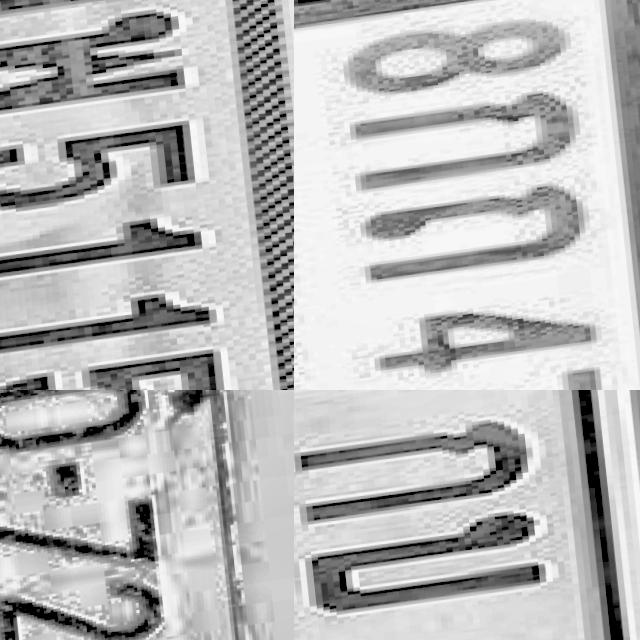license-plate: (294, 0, 640, 390), (0, 0, 294, 390), (294, 390, 640, 640), (0, 390, 294, 640)
